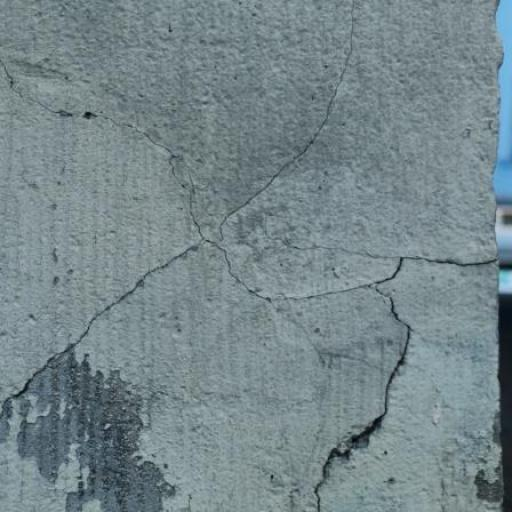spalling: (1, 241, 200, 411), (312, 290, 420, 511), (196, 231, 497, 309)
